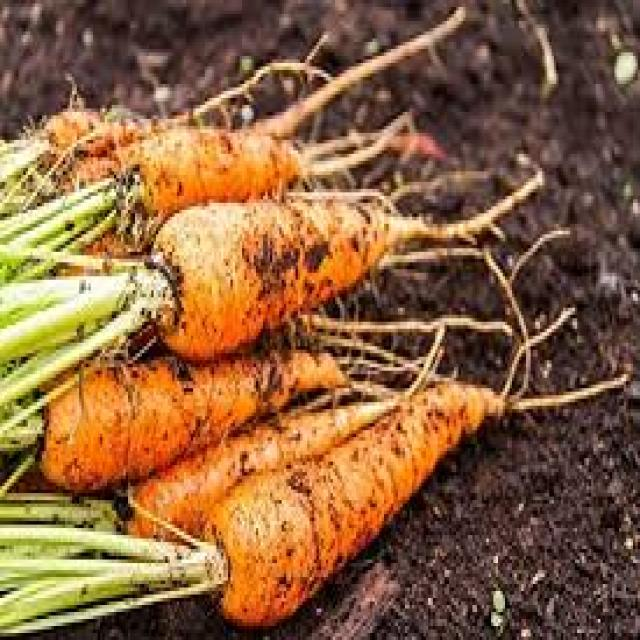Stale_Carrot: (43, 199, 425, 489), (209, 383, 504, 626)
